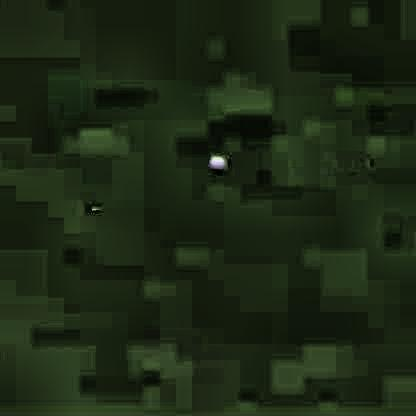golfball: (206, 152, 223, 172)
